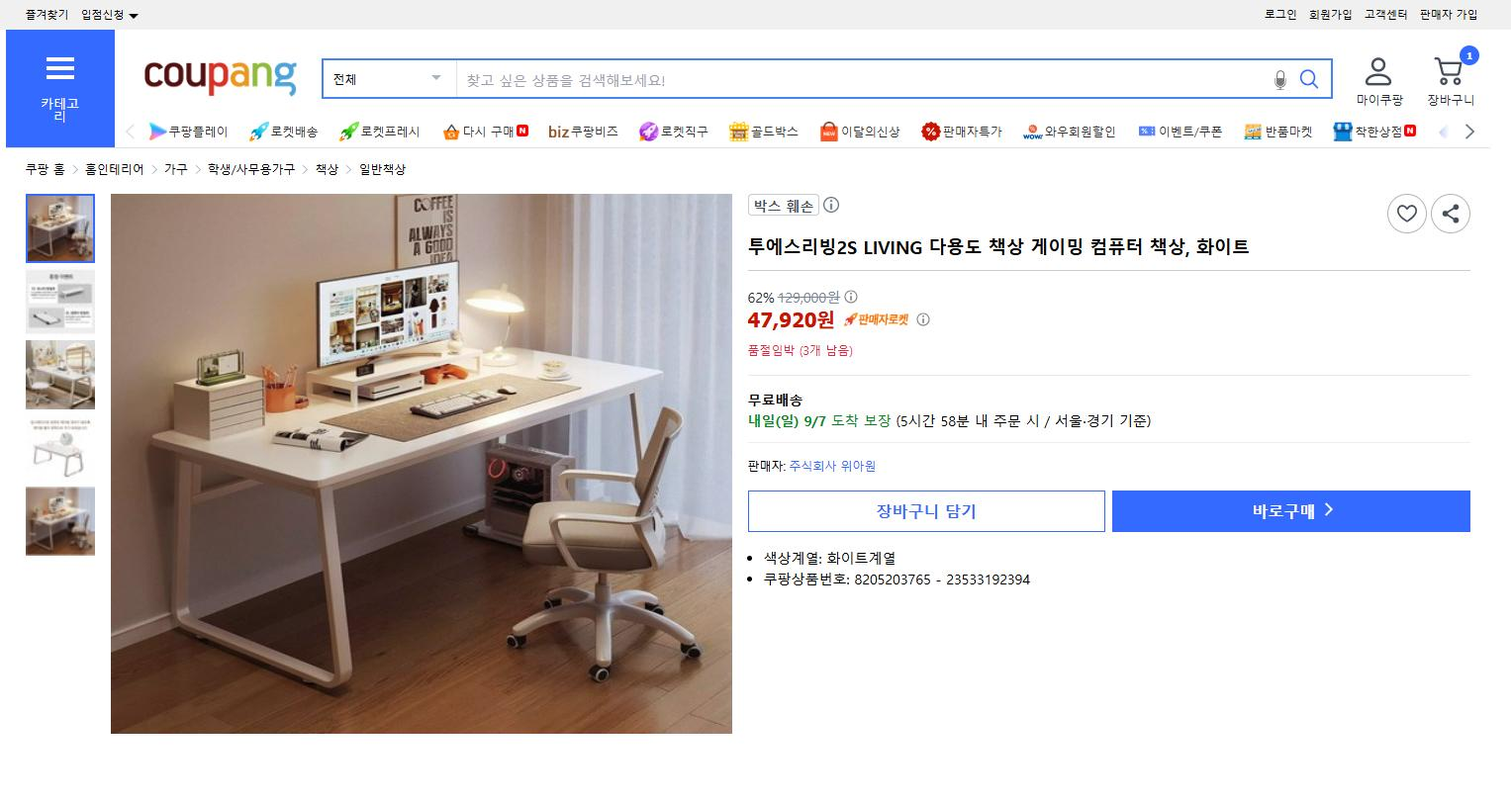button: (1111, 483, 1477, 539), (746, 487, 1107, 540), (2, 33, 121, 145), (23, 482, 97, 569), (24, 414, 97, 496), (24, 190, 97, 265), (1417, 40, 1490, 113), (22, 262, 98, 332), (23, 341, 97, 410), (1339, 52, 1417, 114), (1128, 113, 1233, 148), (425, 117, 537, 148), (138, 113, 234, 148), (1012, 114, 1119, 145), (1328, 116, 1422, 145), (913, 115, 1006, 144), (330, 118, 427, 144), (1241, 114, 1321, 145), (630, 118, 709, 149), (542, 116, 626, 145), (817, 117, 904, 145), (238, 116, 324, 144), (725, 115, 805, 142), (1416, 0, 1480, 27), (75, 1, 144, 25), (1359, 0, 1410, 26), (1305, 4, 1360, 27), (1455, 119, 1488, 148), (14, 5, 70, 22), (1256, 6, 1302, 25)
input_field: (327, 61, 1331, 94)
